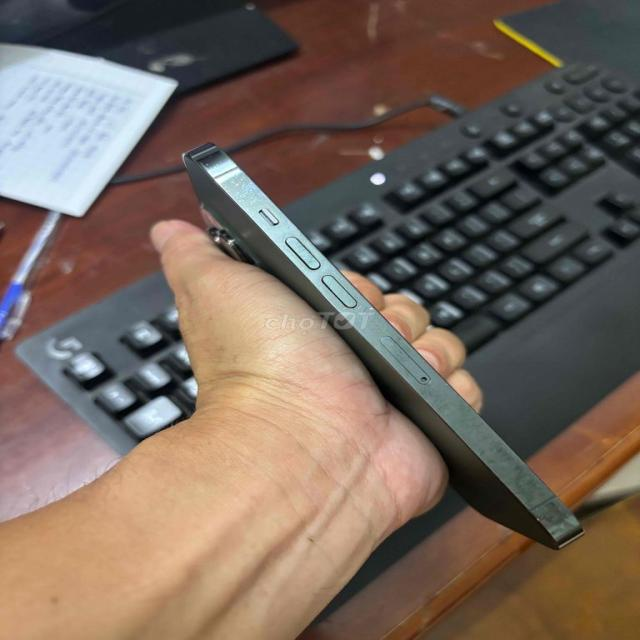scratch: (417, 367, 583, 545)
